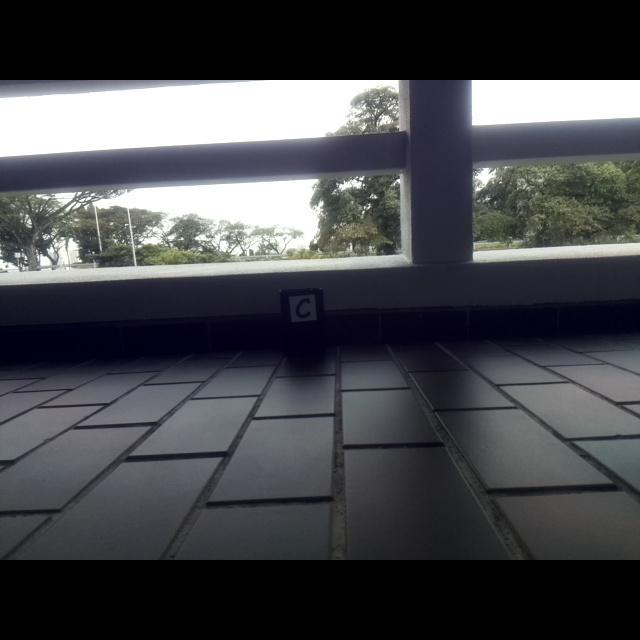C: (295, 298, 311, 319)
